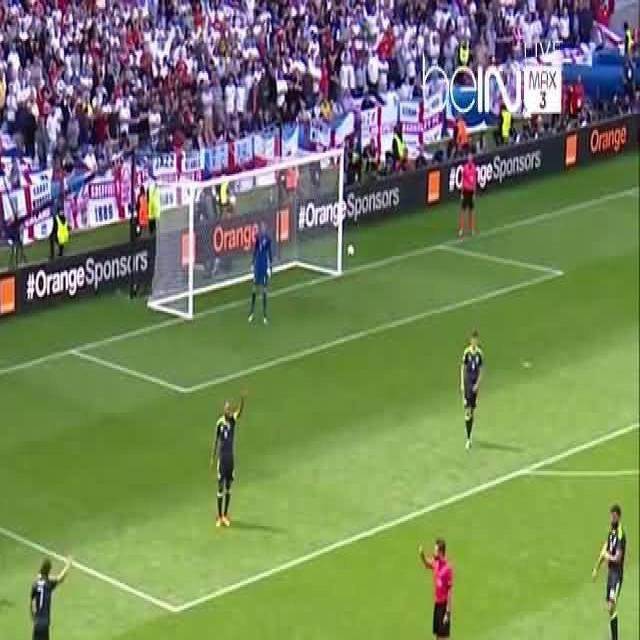ball: (460, 331, 484, 449), (458, 152, 477, 235), (348, 244, 354, 256)
player-white: (210, 391, 244, 527), (591, 503, 624, 640), (22, 553, 70, 640), (417, 535, 453, 640), (247, 221, 273, 324)
